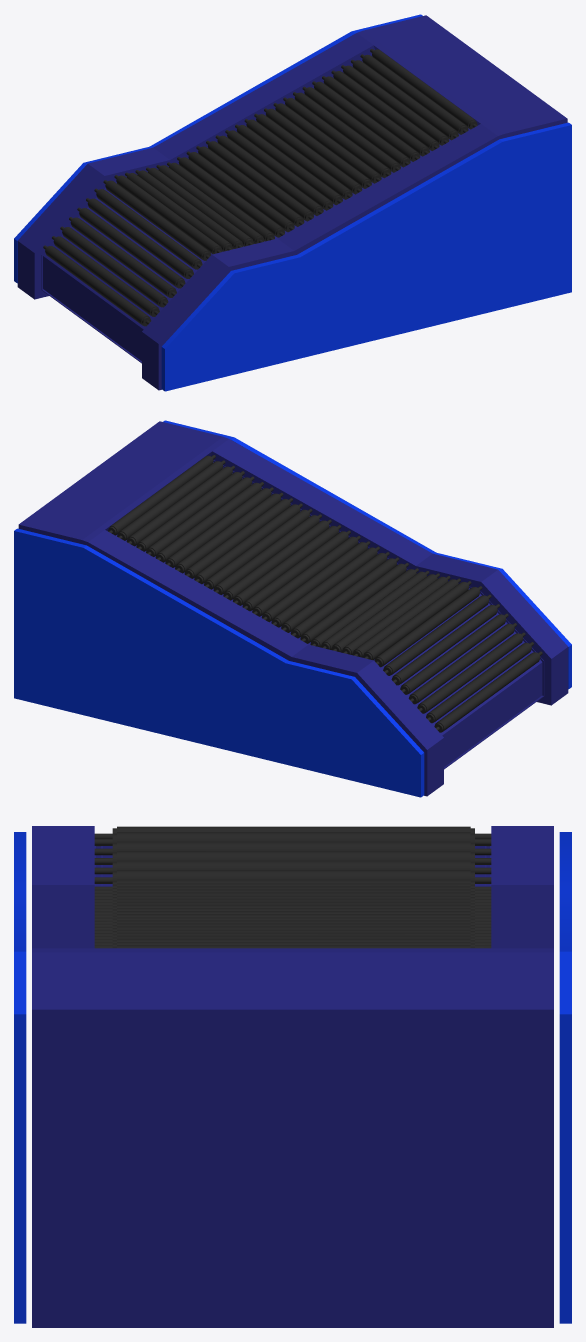
File: Conveyer_Belt_v2.FBX
The picture shows the model from 3 angles, top to bottom: view 1: azimuth 30°, elevation 25°; view 2: azimuth 150°, elevation 25°; view 3: azimuth 270°, elevation 25°; orthographic projection. The views are drawn at different scales.
Visible parts, largest first — view 1: Box062, Line002, Cylinder065, Cylinder067, Cylinder069, Cylinder068, Cylinder070, Cylinder071, Cylinder066, Cylinder064, Cylinder063, Cylinder057 (+25 smaller); view 2: Box062, Line002, Cylinder065, Cylinder068, Cylinder069, Cylinder066, Cylinder070, Cylinder071, Cylinder067, Cylinder064, Cylinder063, Cylinder057 (+25 smaller); view 3: Line002, Box062, Cylinder060, Cylinder062, Cylinder059, Cylinder061, Cylinder063, Cylinder064, Cylinder058, Cylinder040, Cylinder041, Cylinder042 (+18 smaller).
Part boxes in pixels (bbox=[...]): Box062: bbox=[14, 14, 571, 391]; Line002: bbox=[17, 15, 567, 390]; Cylinder065: bbox=[94, 188, 202, 269]; Cylinder067: bbox=[77, 207, 185, 288]; Cylinder069: bbox=[60, 226, 168, 307]; Cylinder068: bbox=[69, 217, 176, 297]; Cylinder070: bbox=[52, 236, 159, 316]; Cylinder071: bbox=[43, 245, 151, 326]; Cylinder066: bbox=[86, 198, 193, 278]; Cylinder064: bbox=[103, 180, 211, 260]; Cylinder063: bbox=[114, 175, 222, 254]; Cylinder057: bbox=[177, 157, 284, 237]; Box062: bbox=[14, 420, 571, 797]; Line002: bbox=[18, 421, 568, 796]; Cylinder065: bbox=[383, 594, 491, 675]; Cylinder068: bbox=[408, 623, 516, 704]; Cylinder069: bbox=[417, 632, 525, 713]; Cylinder066: bbox=[391, 604, 499, 685]; Cylinder070: bbox=[426, 642, 533, 723]; Cylinder071: bbox=[434, 651, 542, 732]; Cylinder067: bbox=[400, 613, 508, 694]; Cylinder064: bbox=[374, 586, 482, 667]; Cylinder063: bbox=[363, 581, 471, 660]; Cylinder057: bbox=[300, 563, 408, 643]; Line002: bbox=[32, 826, 553, 1327]; Box062: bbox=[14, 832, 571, 1323]; Cylinder060: bbox=[94, 860, 491, 874]; Cylinder062: bbox=[94, 841, 491, 855]; Cylinder059: bbox=[94, 870, 491, 883]; Cylinder061: bbox=[94, 851, 491, 864]; Cylinder063: bbox=[94, 832, 491, 845]; Cylinder064: bbox=[94, 826, 491, 838]; Cylinder058: bbox=[94, 879, 491, 890]; Cylinder040: bbox=[94, 935, 491, 945]; Cylinder041: bbox=[94, 932, 491, 942]; Cylinder042: bbox=[94, 929, 491, 939].
Size of the model in its own units: 866 by 349 by 554.
